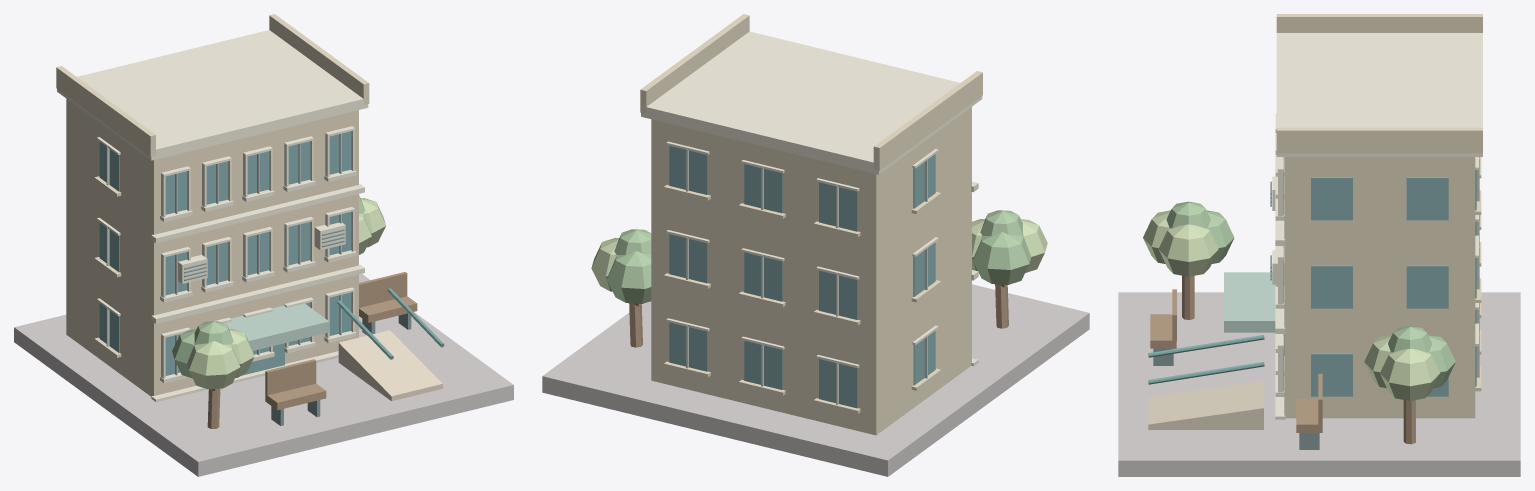
The model's file is dot-tpl-care-2.glb.
3 views of the same model, side by side, from view 1: azimuth 30°, elevation 25°; view 2: azimuth 150°, elevation 25°; view 3: azimuth 270°, elevation 25° (orthographic). The views are drawn at different scales.
Parts seen in each view (by area): view 1: paving; view 2: paving; view 3: paving.
Boxes of the visible parts, x1,y1,x2,y2 form: paving: (14, 14, 513, 476); paving: (542, 14, 1089, 476); paving: (1118, 14, 1520, 476).
Bounding box in the file's own units: 4 × 3.38 × 4.
1 material, 1 textured.
